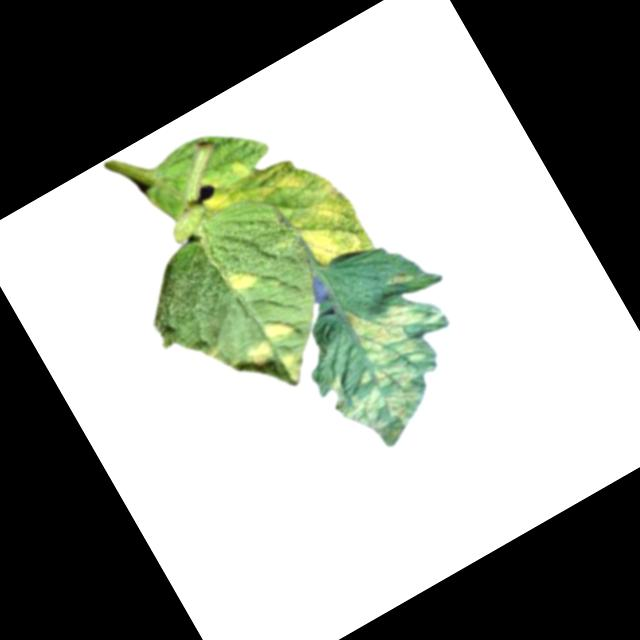Leaf_Mold: (296, 268, 488, 462), (187, 123, 322, 237), (283, 173, 376, 272), (217, 257, 262, 299), (275, 346, 314, 387), (259, 311, 295, 345), (243, 338, 279, 371)
